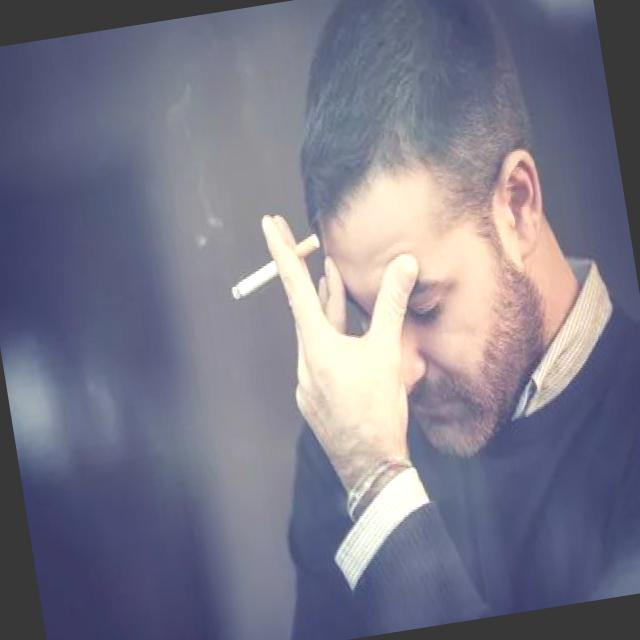cigarette: (217, 227, 328, 308)
